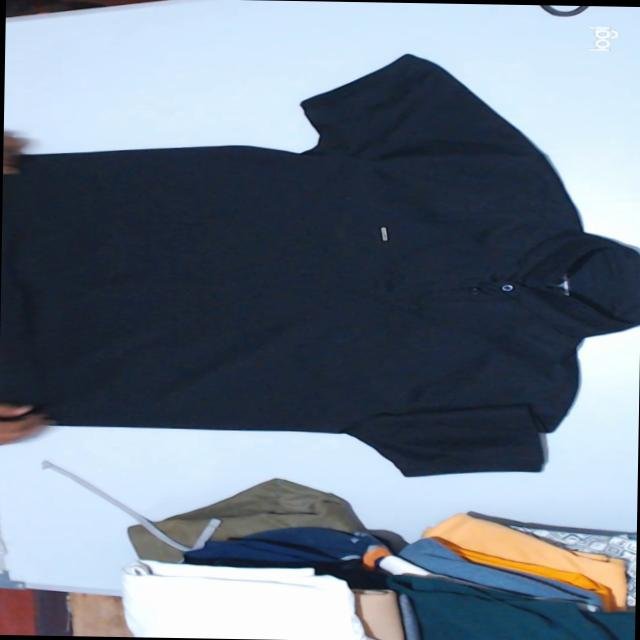new-garment: (0, 54, 640, 475)
